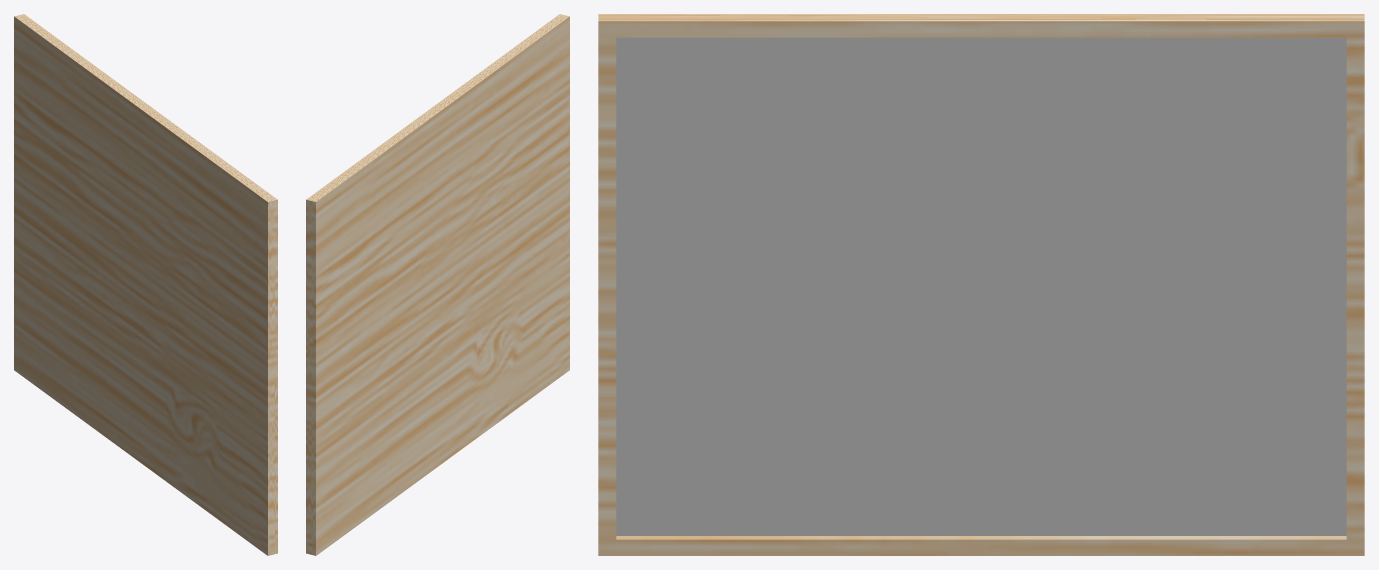
Rendered from Painting.fbx.
3 views of the same model, side by side, from view 1: azimuth 30°, elevation 25°; view 2: azimuth 150°, elevation 25°; view 3: azimuth 270°, elevation 25° (orthographic). The views are drawn at different scales.
Parts seen in each view (by area): view 1: Cube; view 2: Cube; view 3: Cube.
Part boxes in pixels (x1=…): Cube: x1=14, y1=14, x2=277, y2=555; Cube: x1=306, y1=14, x2=569, y2=555; Cube: x1=598, y1=14, x2=1364, y2=555.
Size of the model in its own units: 5.9 by 200 by 260.
